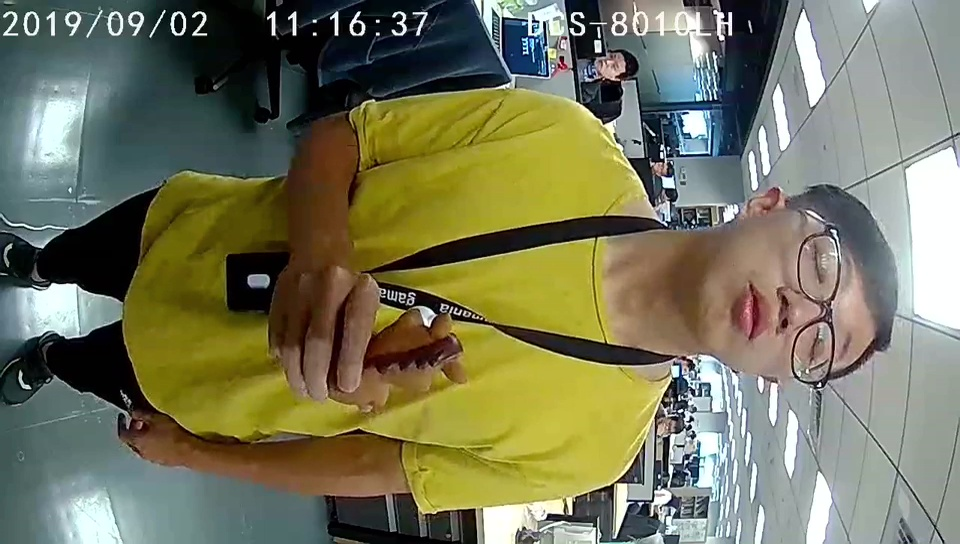horse: (372, 306, 465, 406)
